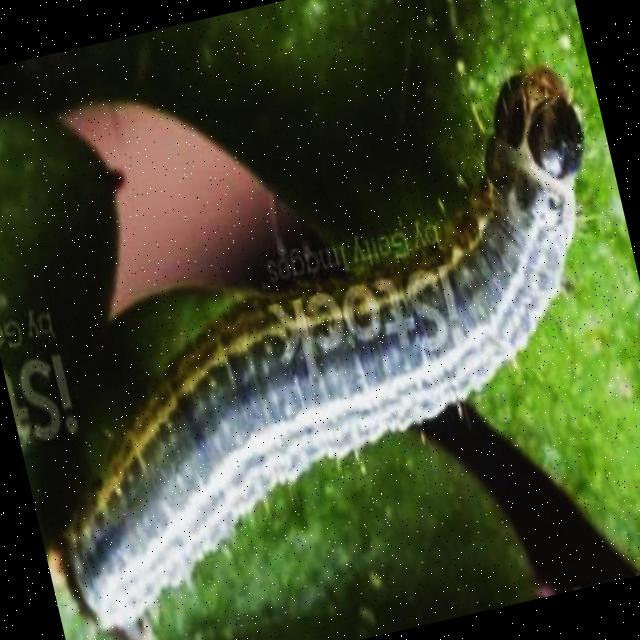worm: (1, 58, 640, 640)
